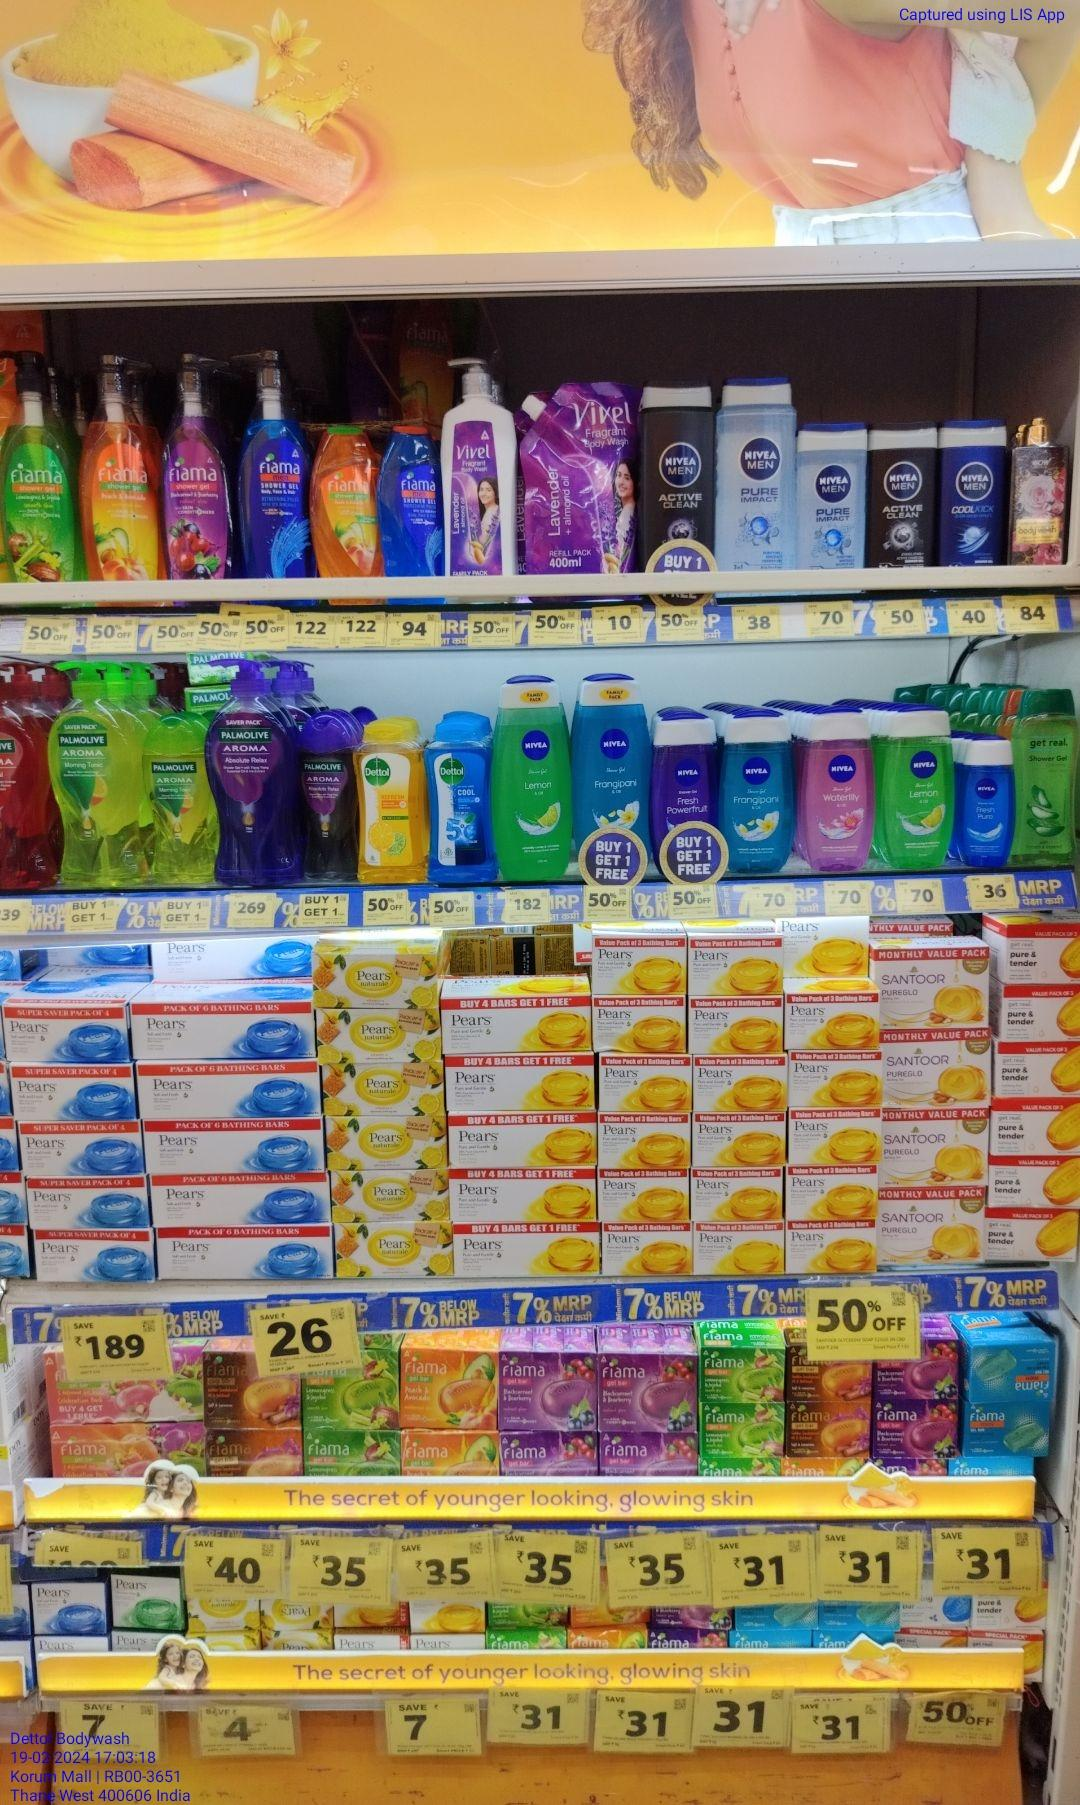Dettol_Bodywash_Cool: (432, 723, 495, 885)
Dettol_Bodywash_Refresh: (360, 720, 427, 885)
Fiama_Shower_Gel_Peach_and_Avocado_250ML: (309, 418, 383, 577)
Nivea_Shower_Gel_Frangipani_and_Oil_250ML: (576, 670, 651, 827), (724, 728, 793, 877)
Nivea_Shower_Gel_Fresh_Powerfruit_250ML: (653, 716, 716, 824)
Nivea_Shower_Gel_Lemon_and_Oil_250ML: (498, 679, 572, 878), (879, 714, 951, 873)
Nivea_Shower_Gel_Waterlily_and_Oil_250ML: (805, 715, 872, 872)
Palmolive_Aroma_Morning_Tonic_Shower_Gel_250ML: (141, 726, 212, 886)
Palmolive_Aroma_Relax_250ML: (298, 708, 359, 874)
